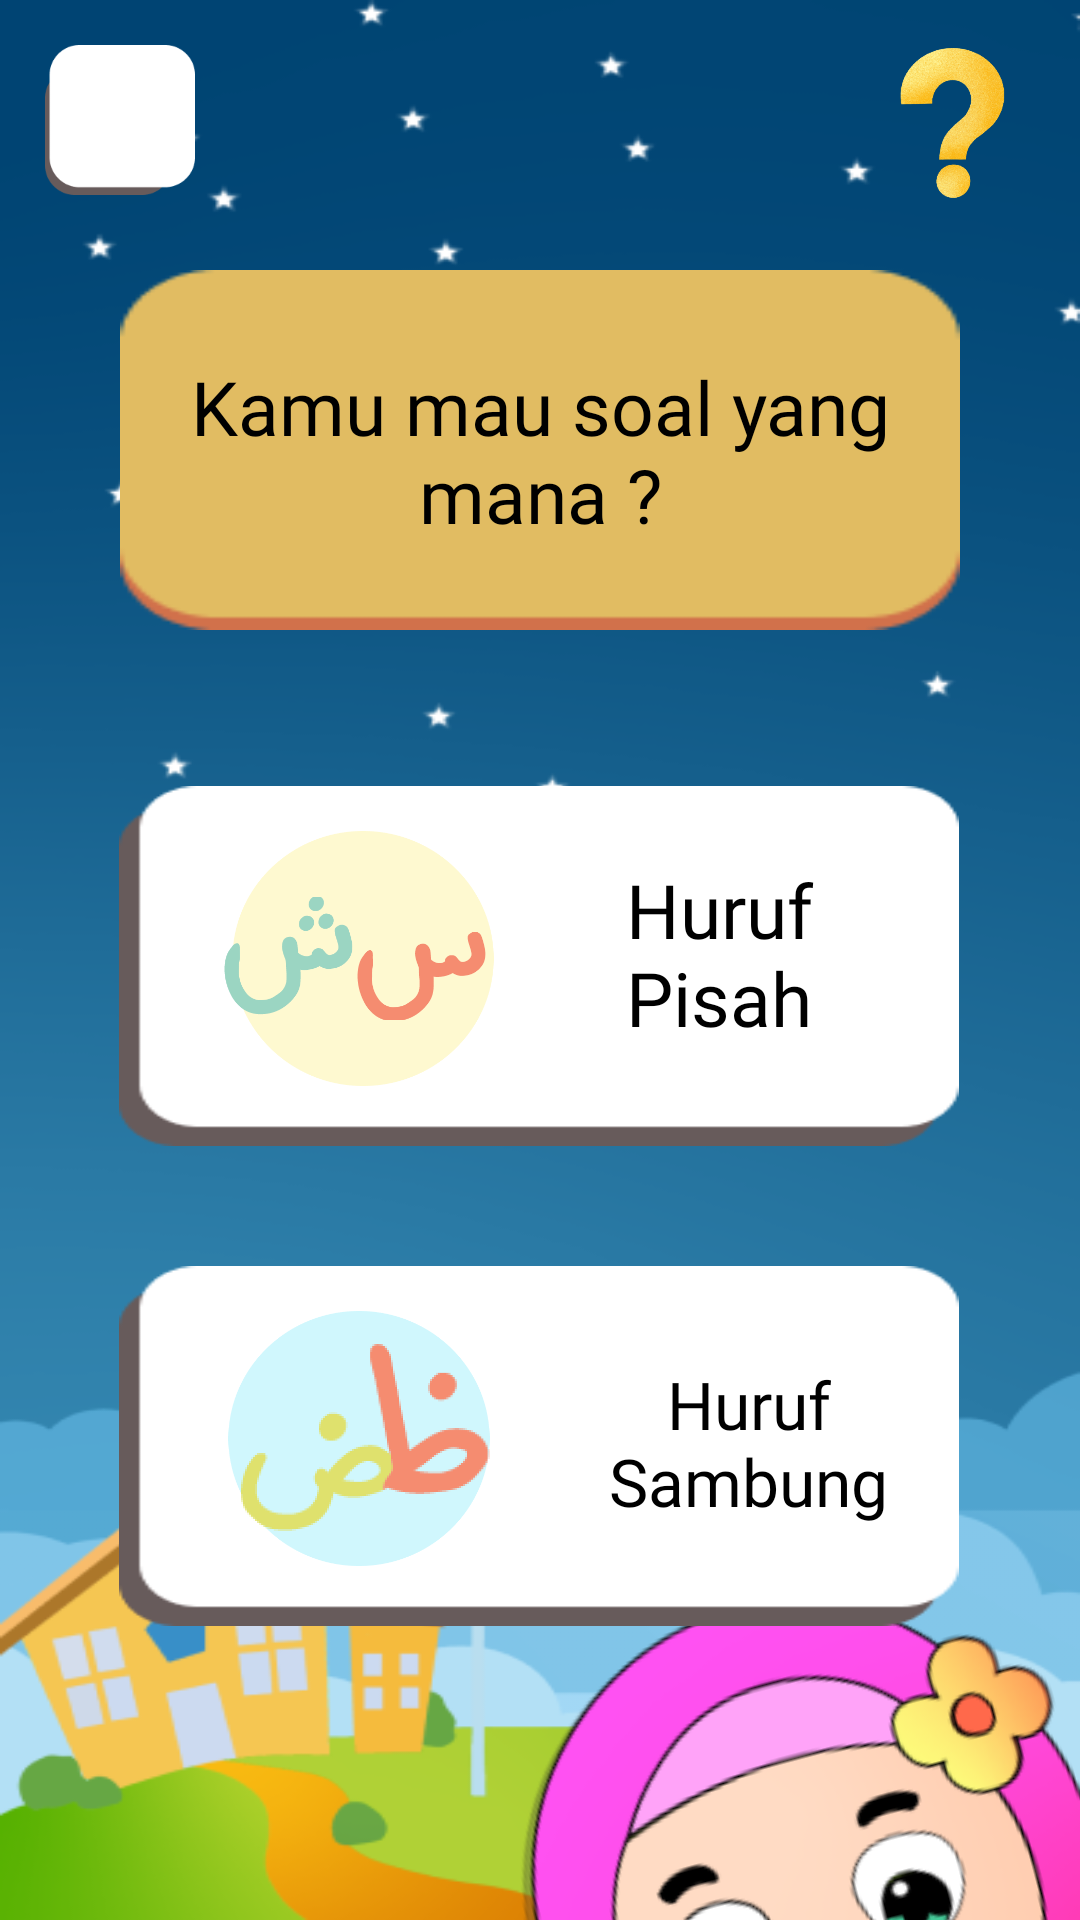

Screen size 1080px x 1920px. Icon name, then its center in pixels as (x,y):
question: (952,123)
